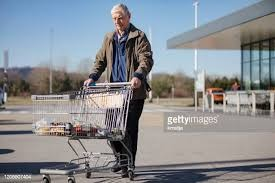with_basket: (31, 81, 136, 182)
without_mask: (111, 4, 131, 30)
